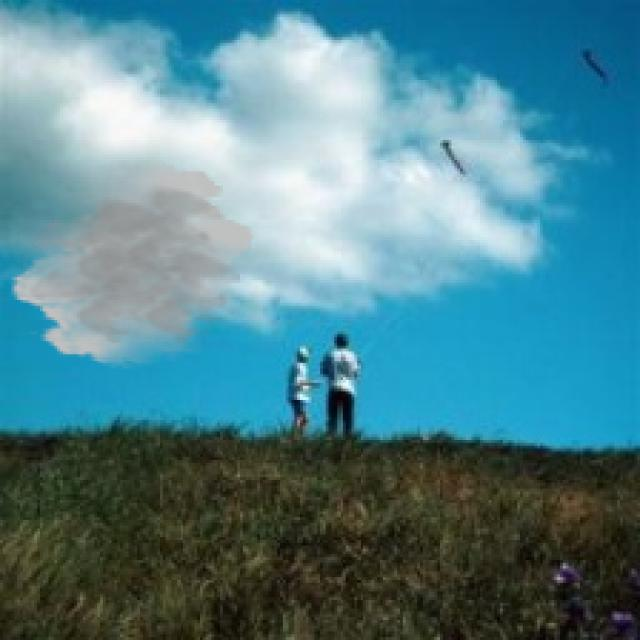smoke: (9, 157, 257, 369)
